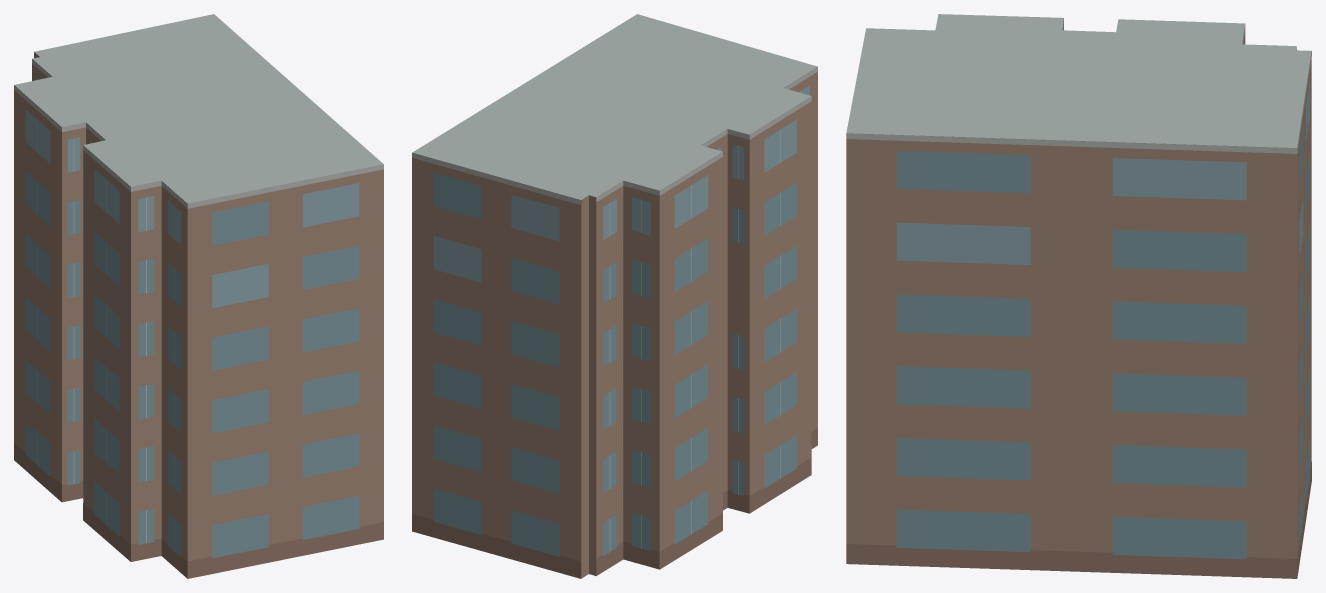
Rendered from survey-upis-32956853.glb.
3 views of the same model, side by side, from view 1: azimuth 30°, elevation 25°; view 2: azimuth 150°, elevation 25°; view 3: azimuth 270°, elevation 25° (orthographic). The views are drawn at different scales.
Parts seen in each view (by area): view 1: survey-upis-32956853.tmp; view 2: survey-upis-32956853.tmp; view 3: survey-upis-32956853.tmp.
Boxes of the visible parts, <box> form: survey-upis-32956853.tmp: <box>14,14,383,578</box>; survey-upis-32956853.tmp: <box>412,14,817,578</box>; survey-upis-32956853.tmp: <box>846,14,1311,578</box>.
Bounding box in the file's own units: 12.06 × 18.05 × 17.68.
